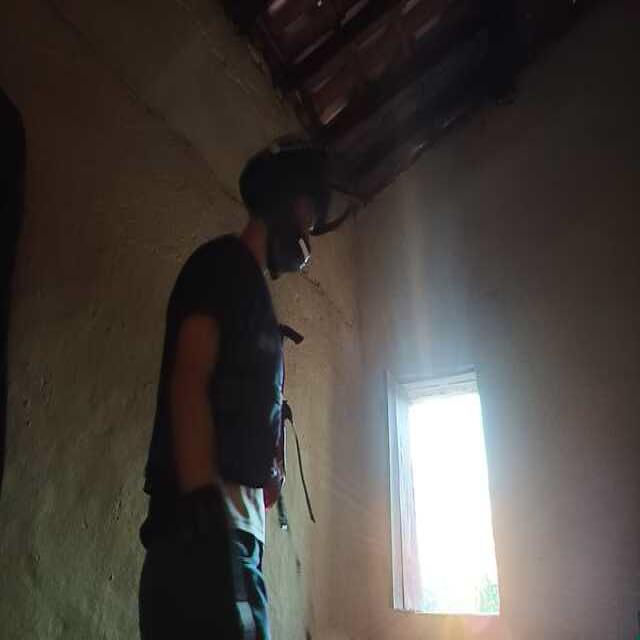capacete: (252, 130, 345, 272)
colete: (162, 227, 285, 499)
pessoa: (134, 187, 318, 640)
